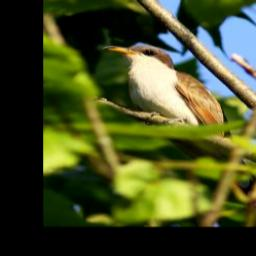Cuckoo: (99, 41, 256, 213)
